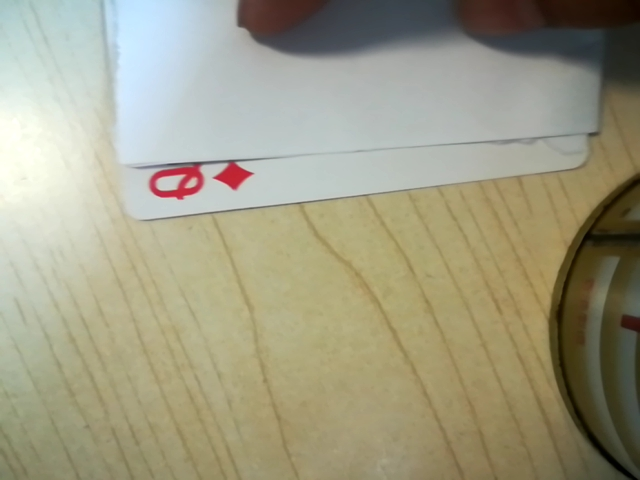fk q: (130, 155, 257, 212)
